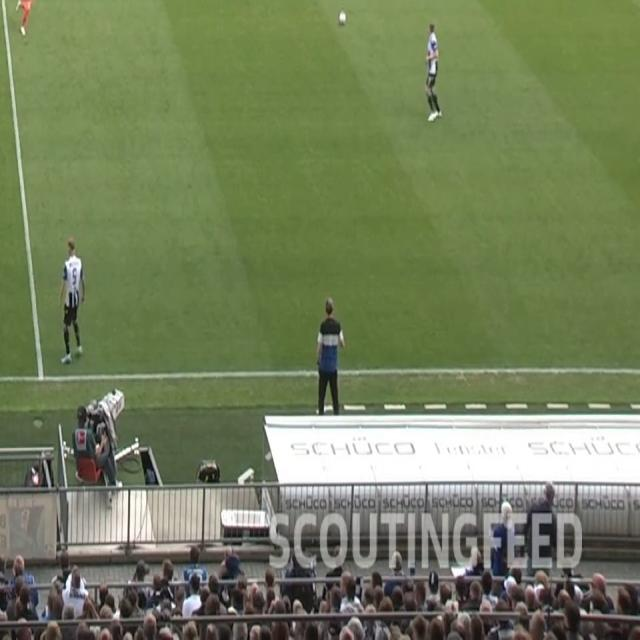ball: (338, 9, 347, 25)
